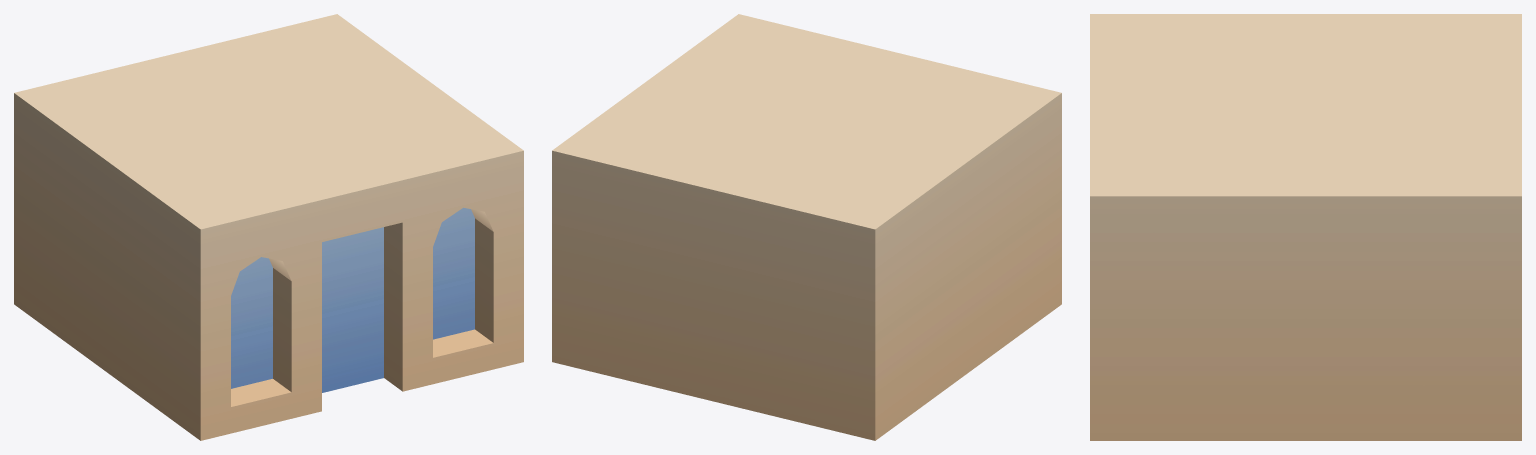
File: kenney-modular-buildings-building-window-door-window-round.glb
The picture shows the model from 3 angles, left to right: view 1: azimuth 30°, elevation 25°; view 2: azimuth 150°, elevation 25°; view 3: azimuth 270°, elevation 25°; orthographic projection. The views are drawn at different scales.
Parts seen in each view (by area): view 1: building-window-door-window-round; view 2: building-window-door-window-round; view 3: building-window-door-window-round.
Boxes of the visible parts, x1=… form: building-window-door-window-round: x1=14, y1=14, x2=523, y2=440; building-window-door-window-round: x1=552, y1=14, x2=1061, y2=440; building-window-door-window-round: x1=1090, y1=14, x2=1521, y2=440.
Size of the model in its own units: 1 by 0.625 by 1.
1 material, 1 textured.
